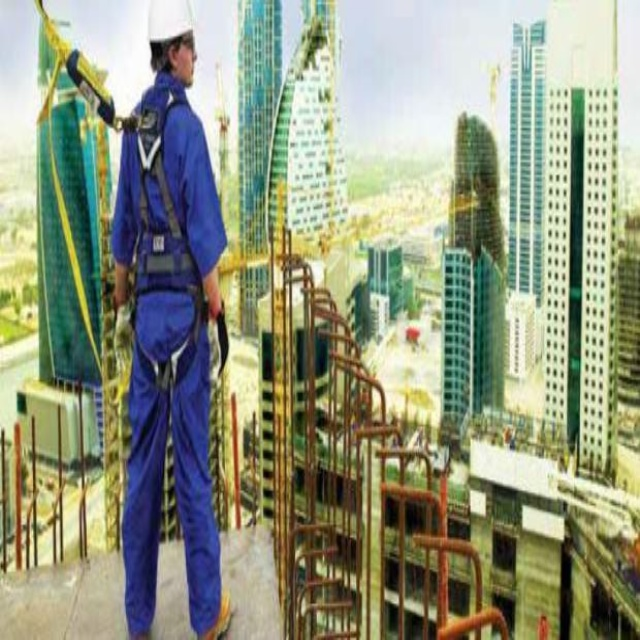Arnes_seguridad: (118, 85, 221, 390)
